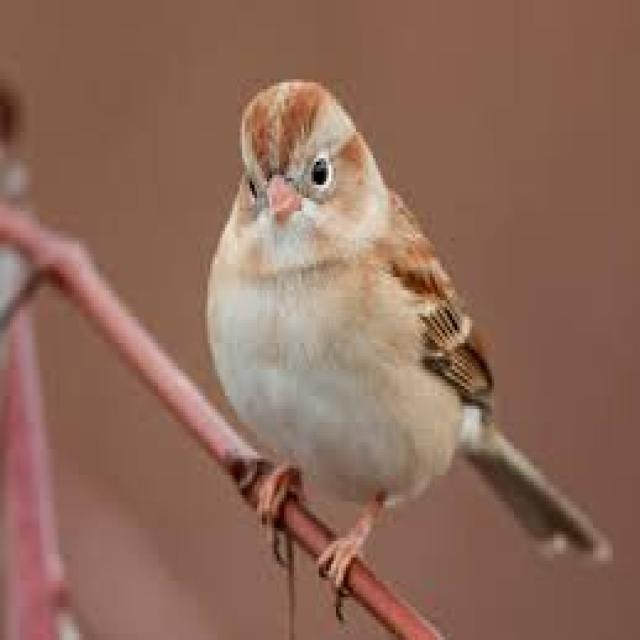Sparrow: (207, 79, 594, 588)
